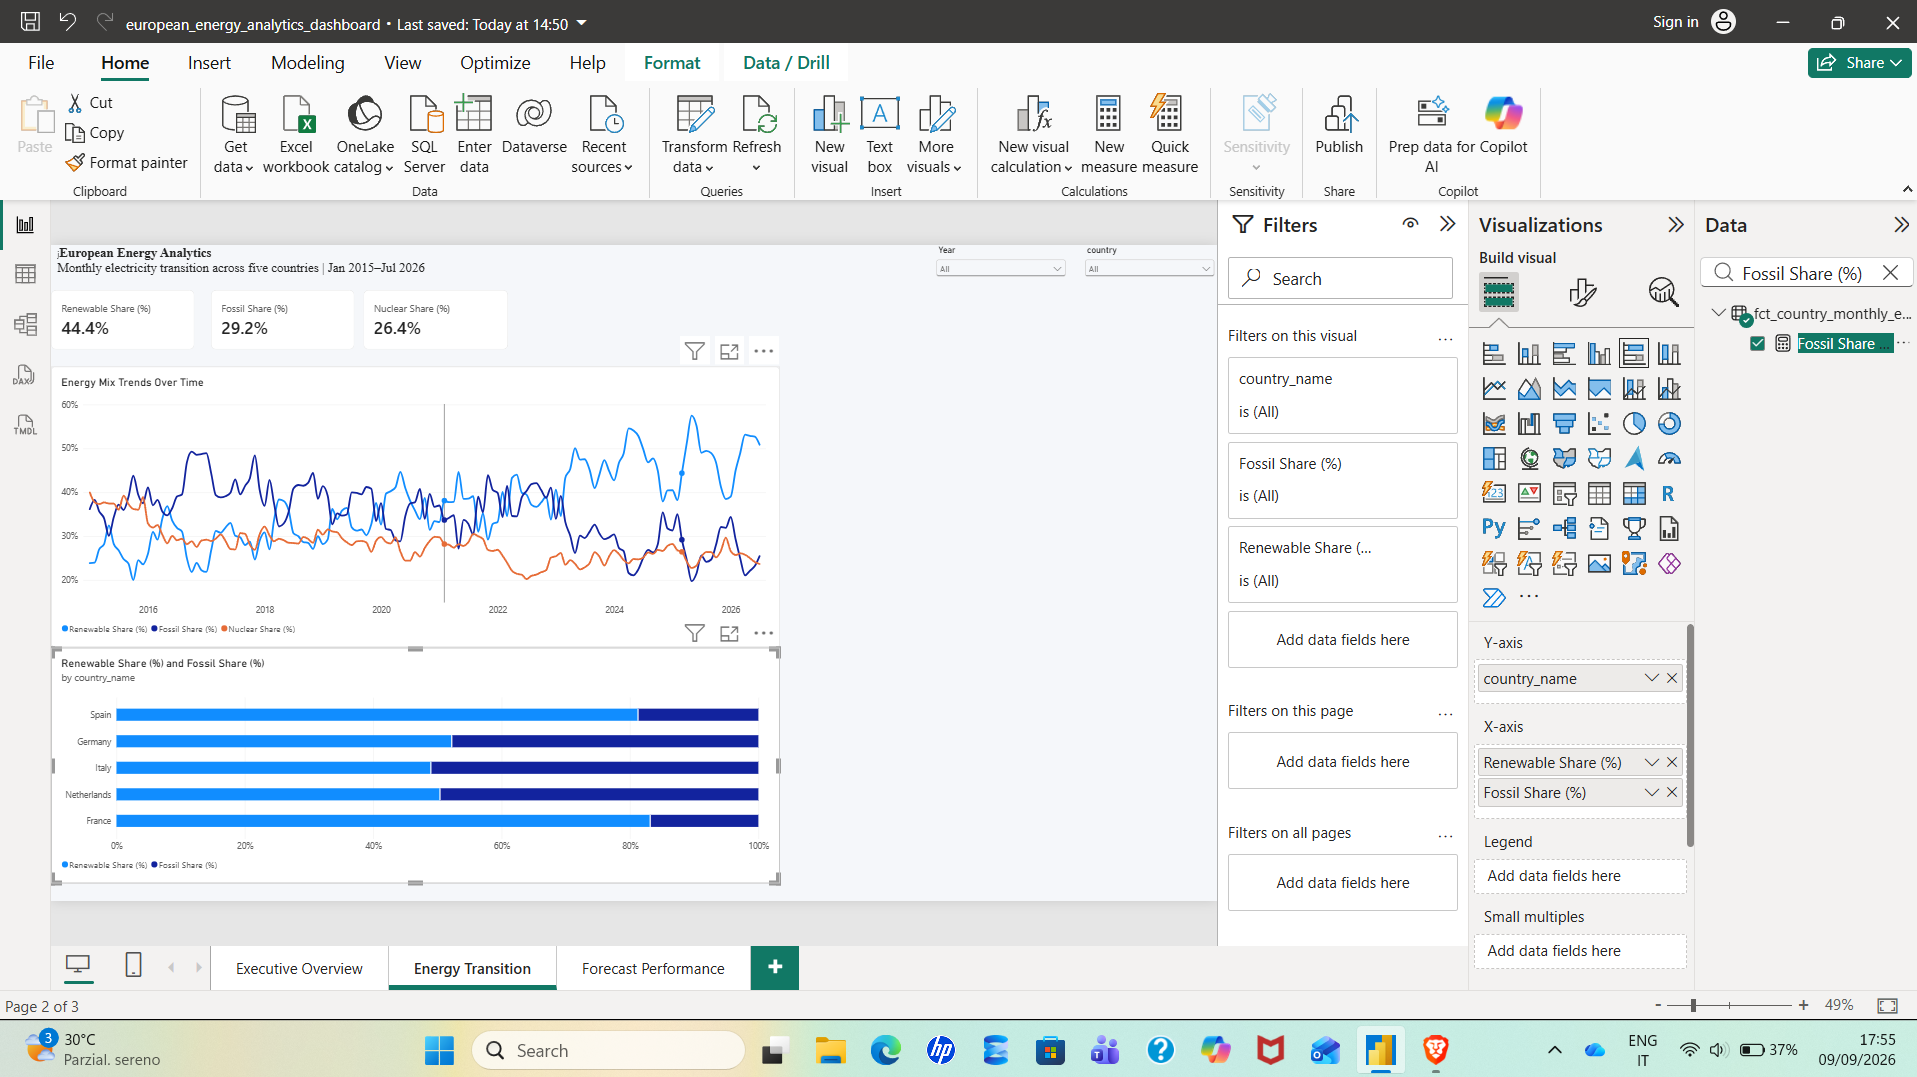

Layout of this report page (visuals, bound fields, positions):
{"tool":"powerbi","page":{"name":"Energy Transition","canvas":[1920,1080],"ordinal":1},"visuals":[{"type":"textbox","box":[10.3,0,1486.1,105],"z":0},{"type":"slicer","fields":{"Values":["dim_month.calendar_year"]},"box":[1453.2,0,222.3,74.1],"z":1000},{"type":"slicer","fields":{"Values":["dim_country.country_name"]},"box":[1697.7,0,222.3,74.1],"z":2000},{"type":"cardVisual","fields":{"Data":["fct_country_monthly_energy.Renewable Share (%)"]},"box":[0,74.1,236.7,98.8],"z":3000},{"type":"cardVisual","fields":{"Data":["fct_country_monthly_energy.Fossil Share (%)"]},"box":[263.5,74.1,236.7,98.8],"z":4000},{"type":"cardVisual","fields":{"Data":["fct_country_monthly_energy.Nuclear Share (%)"]},"box":[514.6,74.1,238.8,98.8],"z":5000},{"type":"lineChart","title":"Energy Mix Trends Over Time","fields":{"Category":["dim_month.month_start"],"Y":["fct_country_monthly_energy.Renewable Share (%)","fct_country_monthly_energy.Fossil Share (%)","fct_country_monthly_energy.Nuclear Share (%)"]},"box":[0,199.7,1200,463.1],"z":6000},{"type":"hundredPercentStackedBarChart","title":"Energy Mix by Country","fields":{"Category":["fct_country_monthly_energy.country_name"],"Y":["fct_country_monthly_energy.Renewable Share (%)","fct_country_monthly_energy.Fossil Share (%)","fct_country_monthly_energy.Nuclear Share (%)"]},"box":[0,662.8,1200,389],"z":7000},{"type":"lineChart","title":"Monthly Emissions Trend","fields":{"Category":["dim_month.month_start"],"Y":["fct_country_monthly_energy.Total Emissions (MtCO2)"]},"box":[1200,199.7,720.4,463.1],"z":8000},{"type":"clusteredBarChart","title":"Average Net Import Dependence by Country","fields":{"Category":["fct_country_monthly_energy.country_name"],"Y":["Avg(fct_country_monthly_energy.net_import_dependence_pct)"]},"box":[1200,662.8,720,389],"z":9000}]}

Visuals, with their boxes on the page's 1920x1080 design canvas (x1, y1, x2, y2). These are canvas units, not pixel positions in the 1917x1077 screenshot, which may show the page scaled, cropped or inside an application window:
textbox: <region>10, 0, 1496, 105</region>
slicer - dim_month.calendar_year: <region>1453, 0, 1676, 74</region>
slicer - dim_country.country_name: <region>1698, 0, 1920, 74</region>
cardVisual - fct_country_monthly_energy.Renewable Share (%): <region>0, 74, 237, 173</region>
cardVisual - fct_country_monthly_energy.Fossil Share (%): <region>264, 74, 500, 173</region>
cardVisual - fct_country_monthly_energy.Nuclear Share (%): <region>515, 74, 753, 173</region>
"Energy Mix Trends Over Time" lineChart: <region>0, 200, 1200, 663</region>
"Energy Mix by Country" hundredPercentStackedBarChart: <region>0, 663, 1200, 1052</region>
"Monthly Emissions Trend" lineChart: <region>1200, 200, 1920, 663</region>
"Average Net Import Dependence by Country" clusteredBarChart: <region>1200, 663, 1920, 1052</region>
